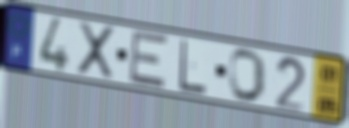2: (273, 55, 310, 113)
4: (37, 15, 72, 75)
E: (126, 29, 171, 91)
L: (178, 37, 208, 96)
O: (228, 47, 268, 104)
X: (76, 20, 116, 81)
